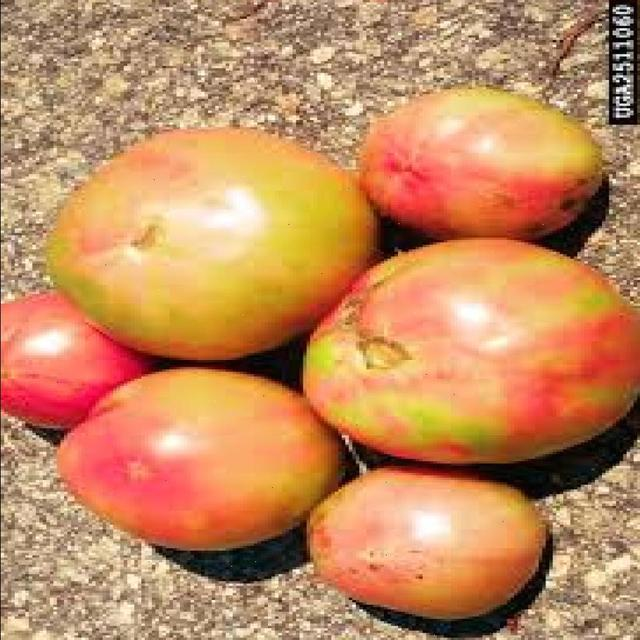Spotted wilt Virus Fruit: (52, 91, 316, 362)
